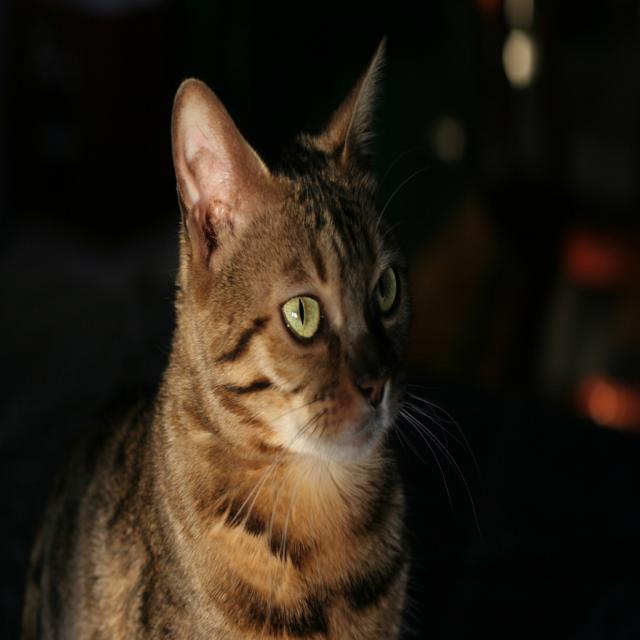Cat: (0, 37, 488, 639)
